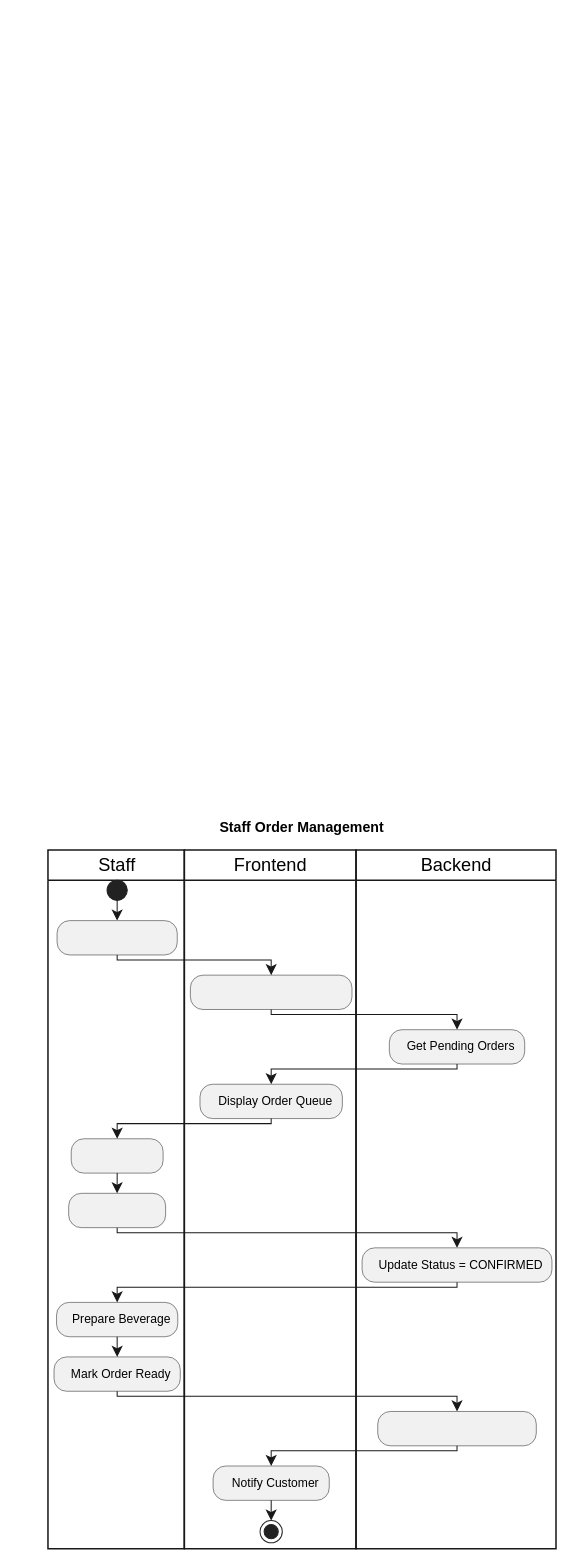
This 574x1567 diagram has some shape labels left out. Each missing label, with the centre of its shape:
"Accept Order" belongs at point 116,1210.
"Request Pending Orders" belongs at point 271,991.
"Select Order" belongs at point 116,1155.
"Update Status = READY" belongs at point 456,1428.
"View New Orders" belongs at point 116,937.
